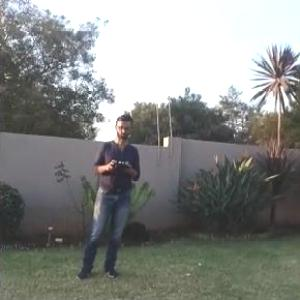follow: (71, 112, 143, 283)
